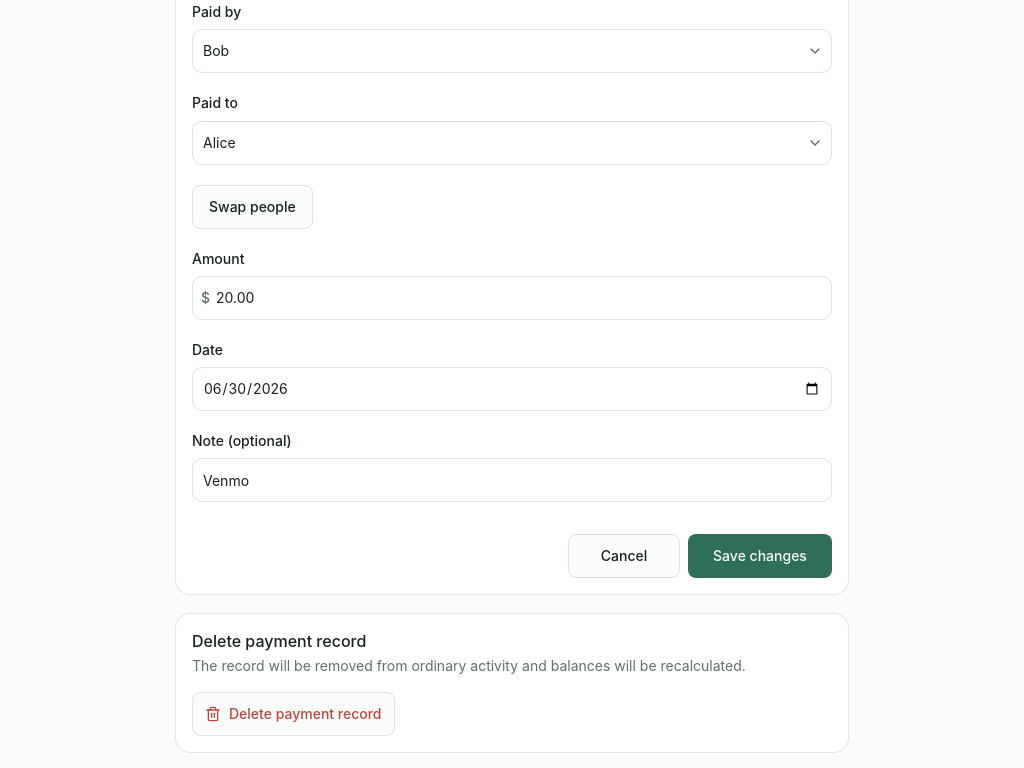
edit payment route › uses one shared coordinator so pending delete locks Save, then refreshes and replaces to Activity
This screenshot has width=1024, height=768.
(page scrolled)
Expected: the field labelled "Amount" is shown, [210,276,831,320]
Click the button "Delete payment record": (293, 714) [192,692,394,736]
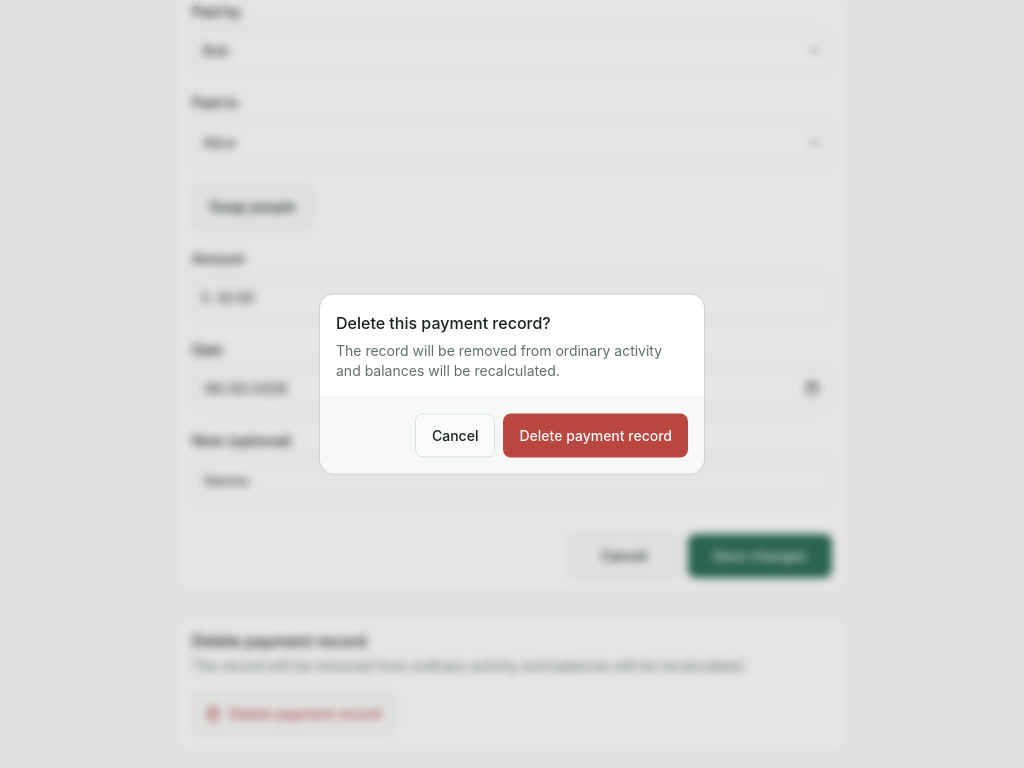
Click the button "Delete payment record": (596, 436) [504,414,688,458]
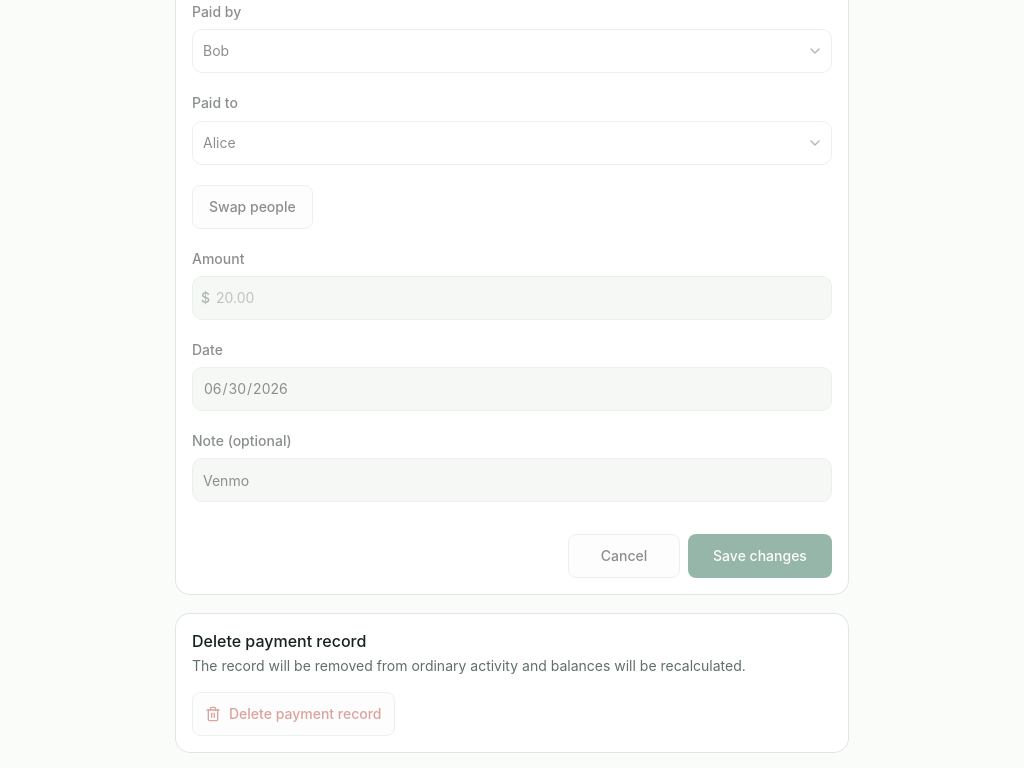
Expected: the button "Save changes" is disabled, [688,534,832,578]
